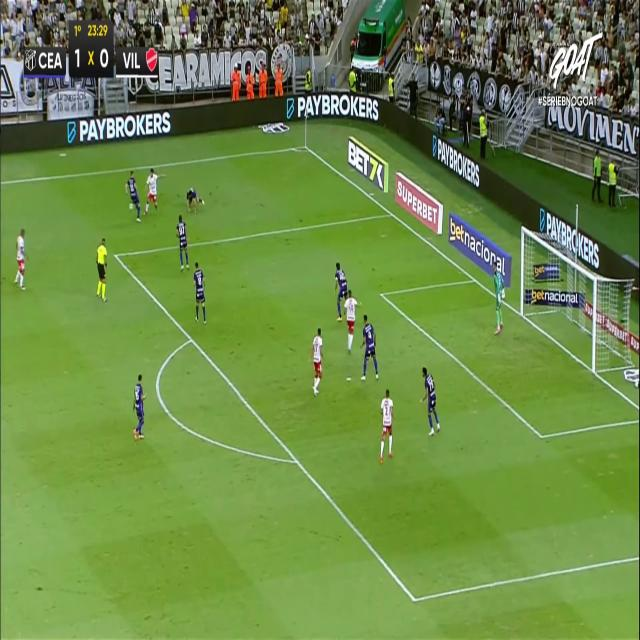goalkeeper: (494, 262, 506, 334)
player: (420, 366, 441, 435), (360, 313, 379, 380), (333, 260, 351, 323), (343, 287, 360, 352), (380, 387, 394, 460), (124, 170, 142, 222), (310, 327, 323, 395), (133, 373, 146, 438), (193, 261, 206, 323), (176, 214, 190, 270), (14, 227, 26, 288), (145, 167, 160, 214), (186, 186, 205, 213)
referee: (96, 237, 108, 300)
